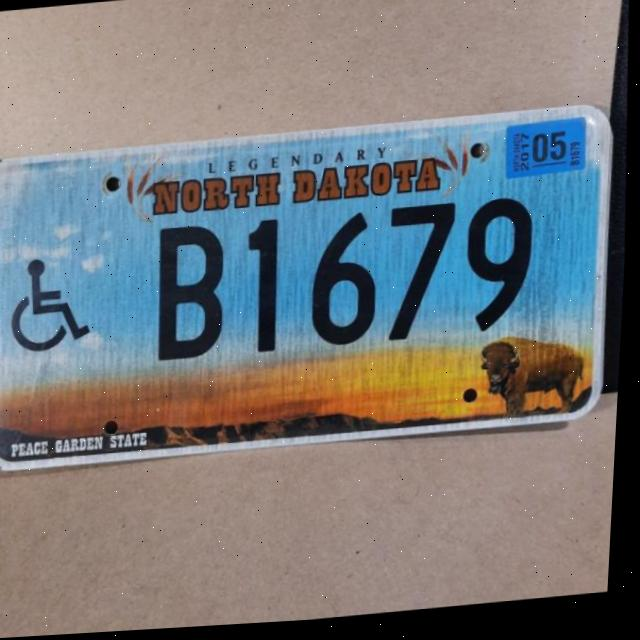symbol_of_access: (5, 251, 109, 358)
